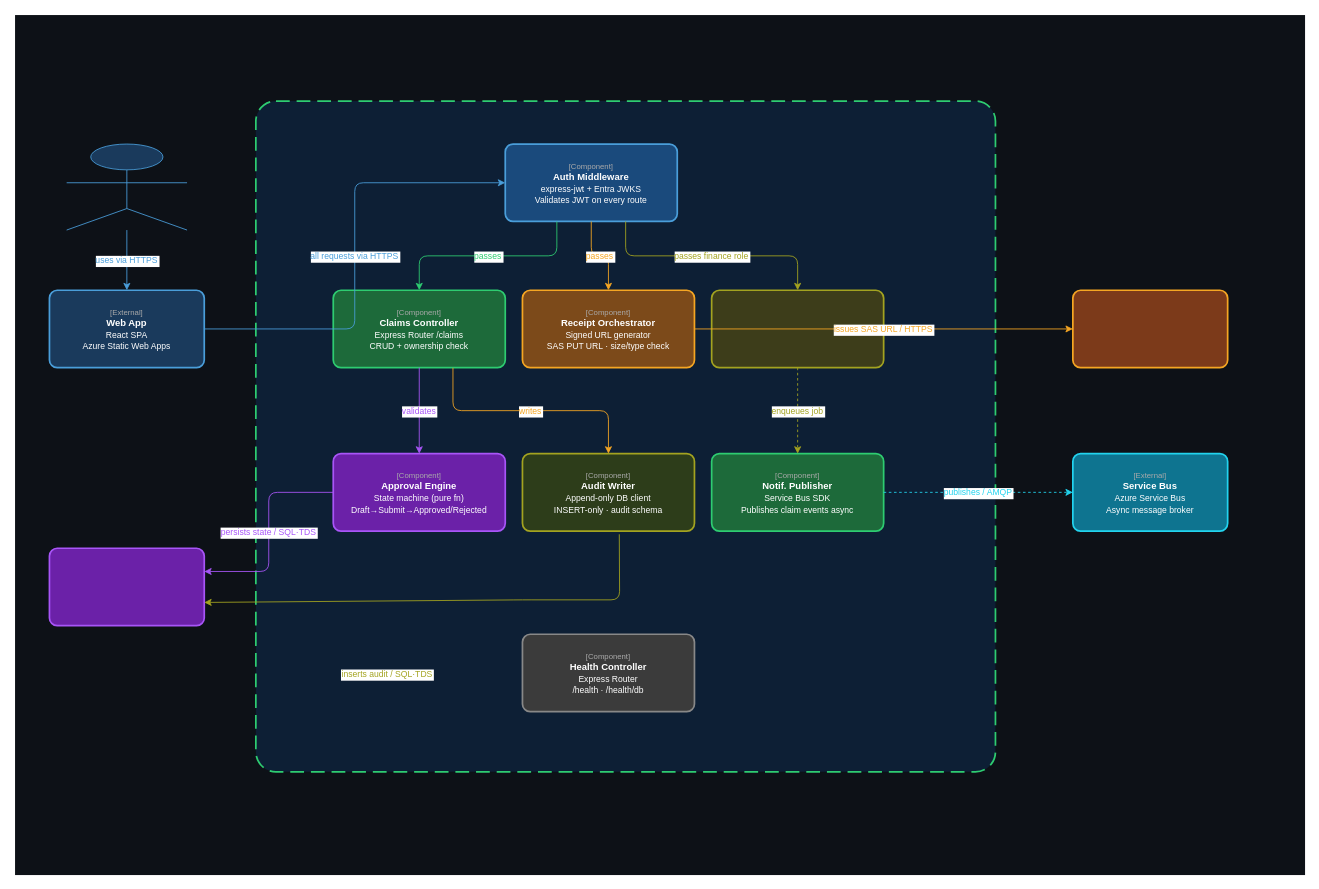
The diagram is 1319 pixels wide and 889 high, and some of its shapes have lost their labels. Here are the shapes that lost their labels. From the top down, the box of each, then its label:
(710, 289, 884, 368): [Component] Export Controller Express Router /export Finance-only · 202 Accepted
(1072, 289, 1228, 368): [External] Blob Storage Azure Blob Storage Stores receipt files
(255, 100, 996, 772): «Azure App Service» Claims API
(48, 547, 205, 626): [External] Azure SQL Claims + Audit schema Persists all data
